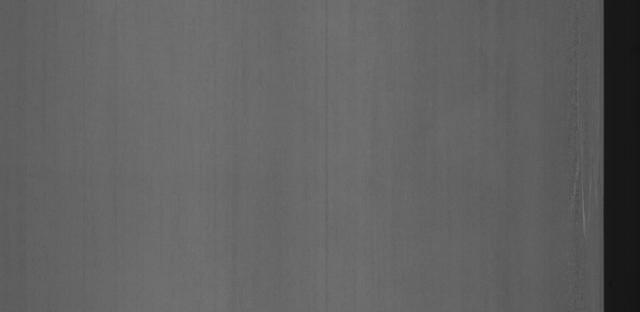silk_spot: (552, 154, 600, 237)
